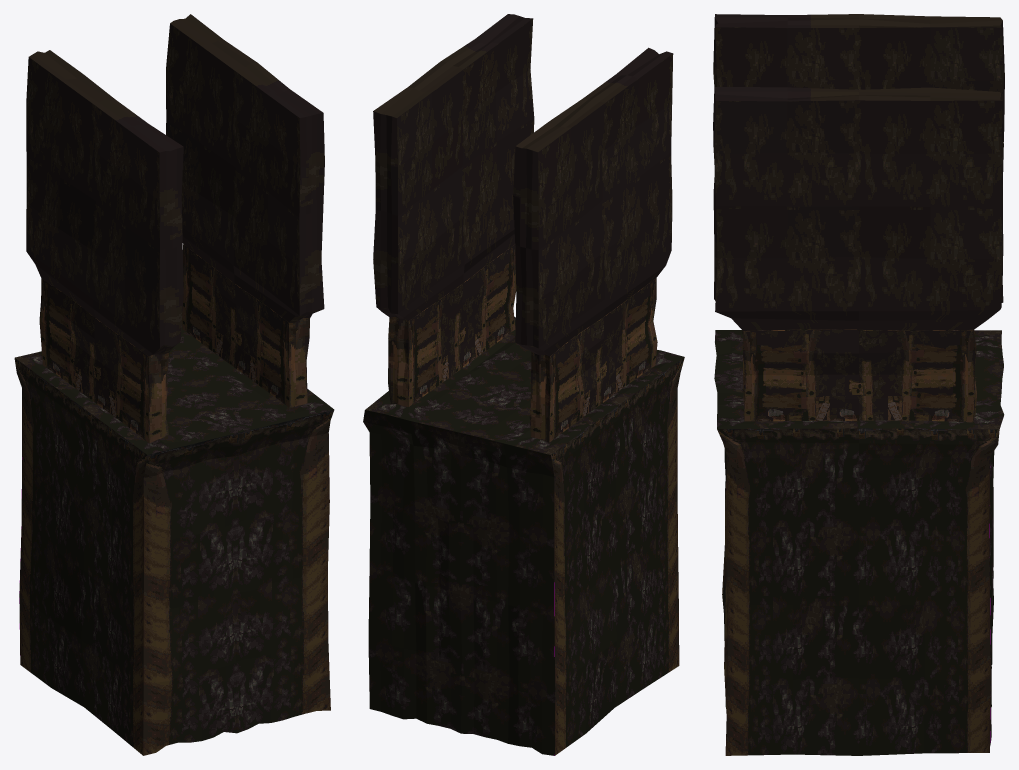
File: tower.glb
3 views of the same model, side by side, from view 1: azimuth 30°, elevation 25°; view 2: azimuth 150°, elevation 25°; view 3: azimuth 270°, elevation 25° (orthographic). The views are drawn at different scales.
Parts seen in each view (by area): view 1: Wall; view 2: Wall; view 3: Wall.
Part boxes in pixels (x1,y1,x2,y2): Wall: (14,14,334,755); Wall: (363,14,684,755); Wall: (713,14,1004,755).
Bounding box in the file's own units: 12.35 × 37.75 × 15.3.
Materials: 3 (3 with a texture image).
